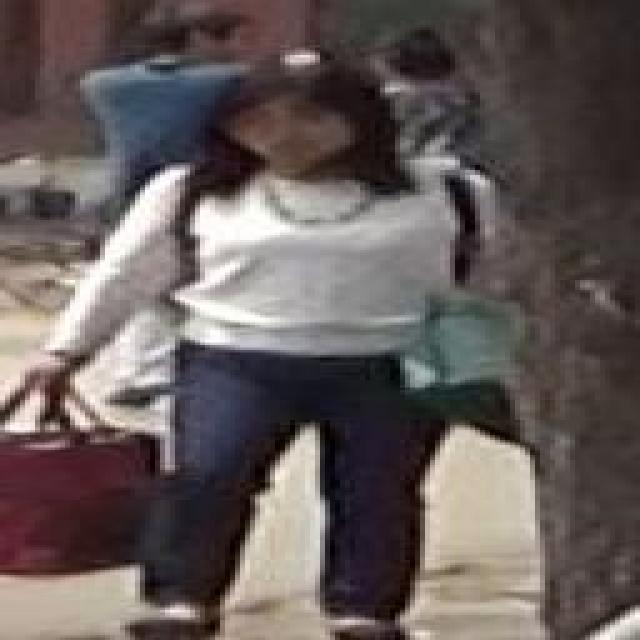adult: (38, 69, 549, 640)
